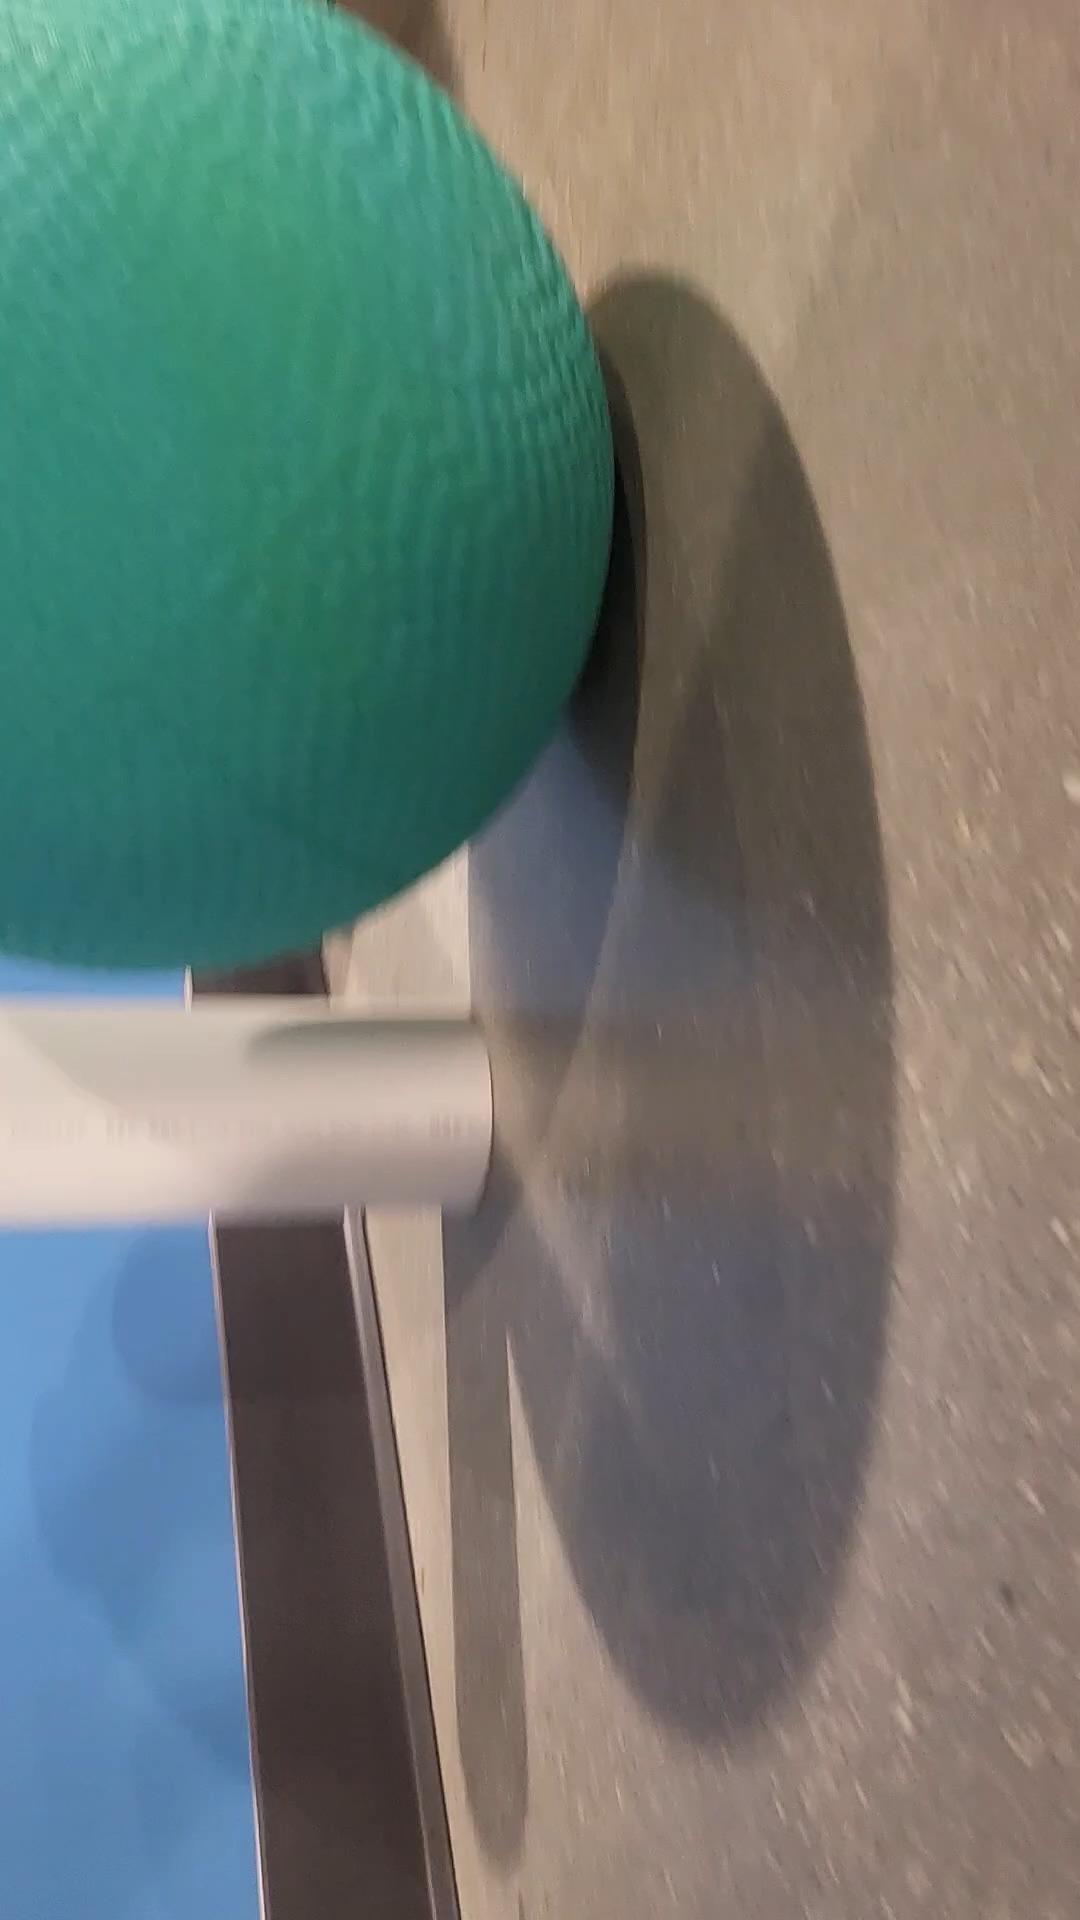algae: (0, 0, 617, 975)
coral: (0, 993, 492, 1222)
